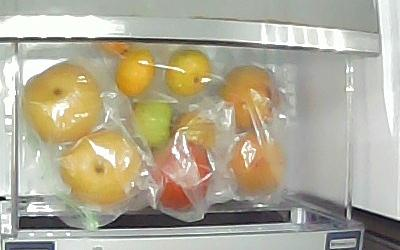peach_vinyl: (222, 66, 278, 132), (231, 132, 281, 196)
pear_vinyl: (20, 62, 102, 146), (59, 131, 140, 203)
tangerine_vinyl: (167, 49, 211, 98), (116, 49, 156, 99)
tomato_vinyl: (151, 137, 211, 213), (133, 98, 177, 150), (174, 109, 217, 150)
